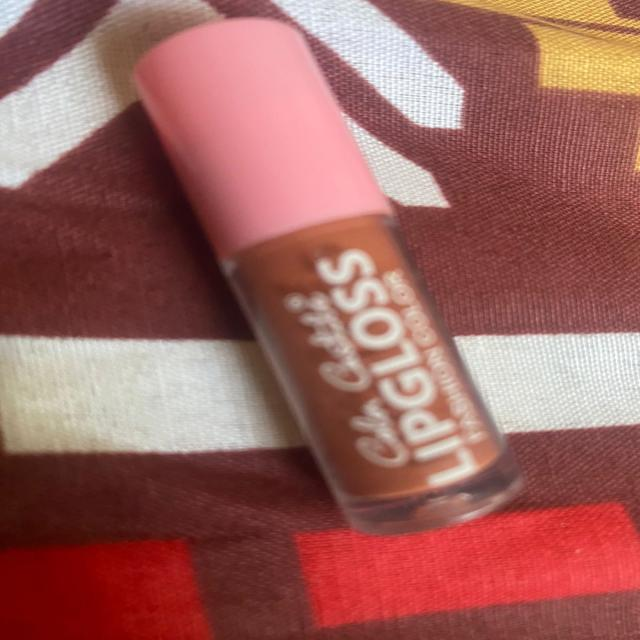lip gloss: (107, 0, 556, 548)
